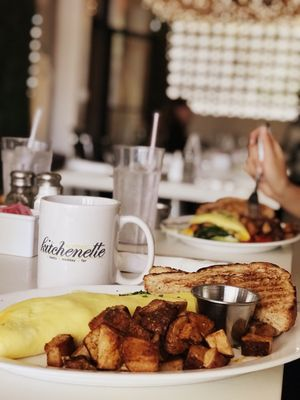pizza: (37, 195, 155, 291), (112, 145, 165, 232)
sushi: (160, 196, 300, 260), (191, 284, 260, 347)
